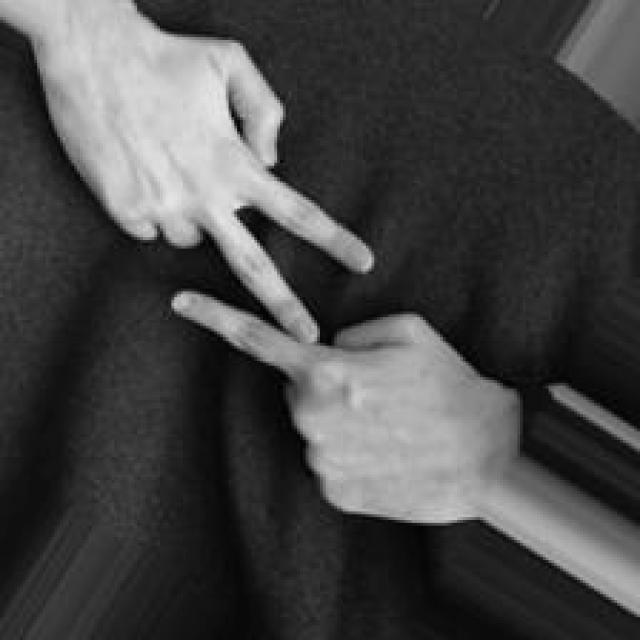Z: (75, 29, 484, 521)
